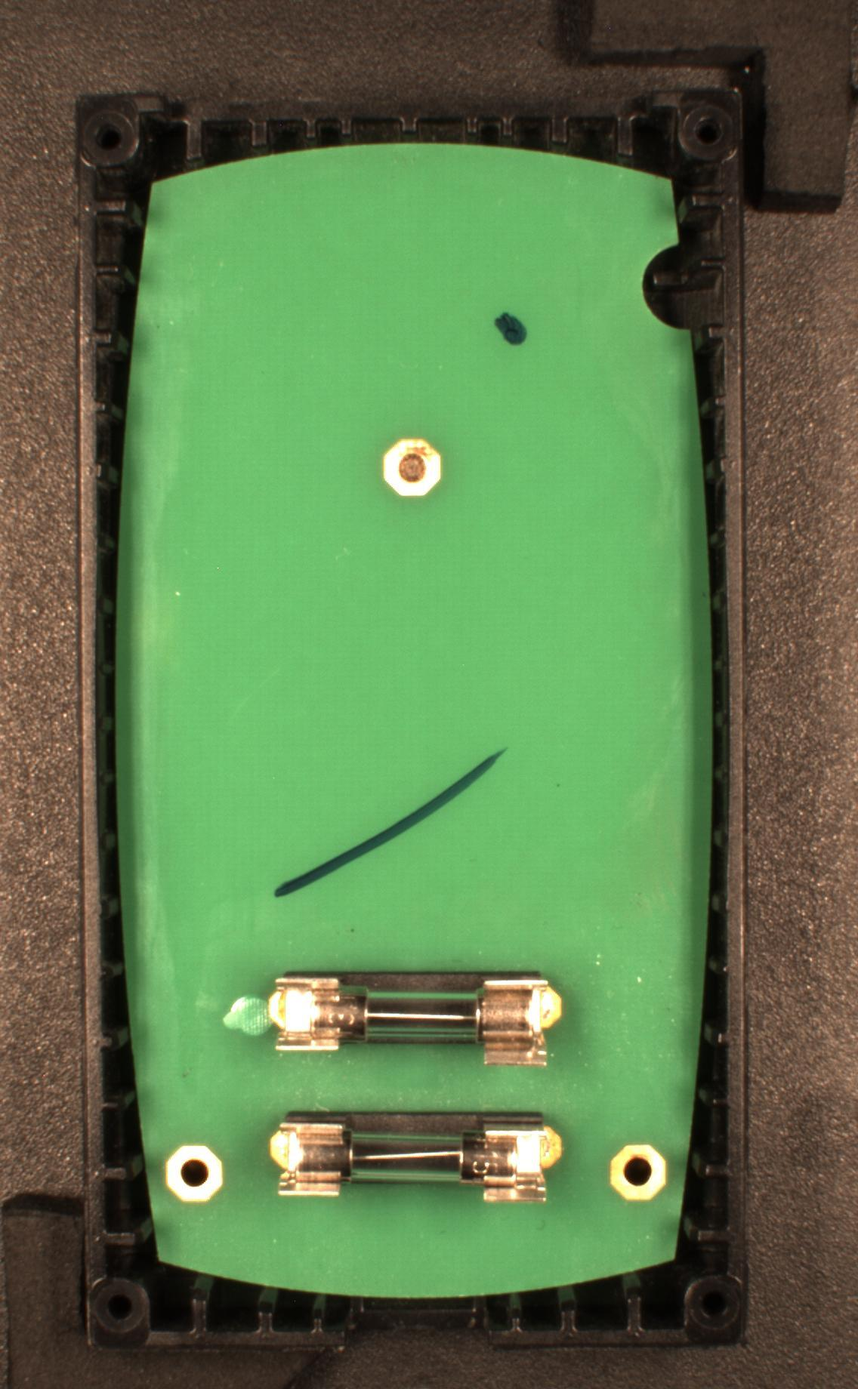Linijsko Ostecene: (270, 746, 510, 900)
Tockasto Ostecenje: (492, 307, 530, 347)
